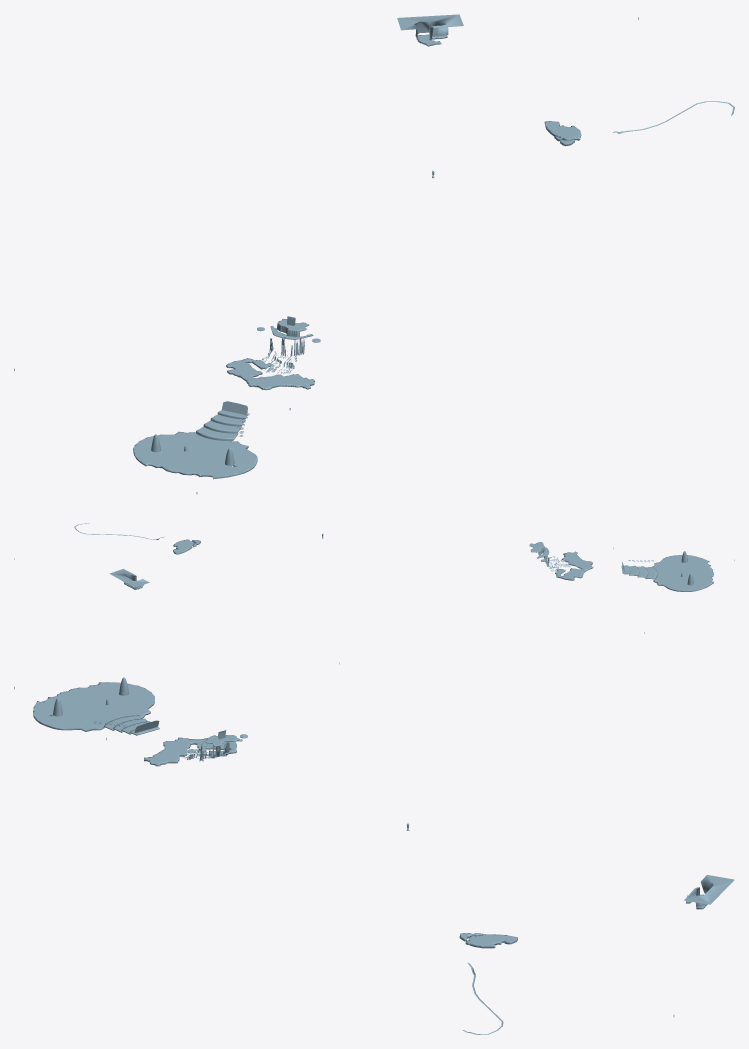
The model's file is eau-v2.glb.
3 views of the same model, one above another, from view 1: azimuth 30°, elevation 25°; view 2: azimuth 150°, elevation 25°; view 3: azimuth 270°, elevation 25° (orthographic). The views are drawn at different scales.
Visible parts, largest first — view 1: eau-v2; view 2: eau-v2; view 3: eau-v2.
Part boxes in pixels (x1,y1,x2,y2): eau-v2: (14, 14, 734, 494); eau-v2: (14, 523, 734, 633); eau-v2: (14, 662, 734, 1034).
Size of the model in its own units: 314 by 31.8 by 244.
